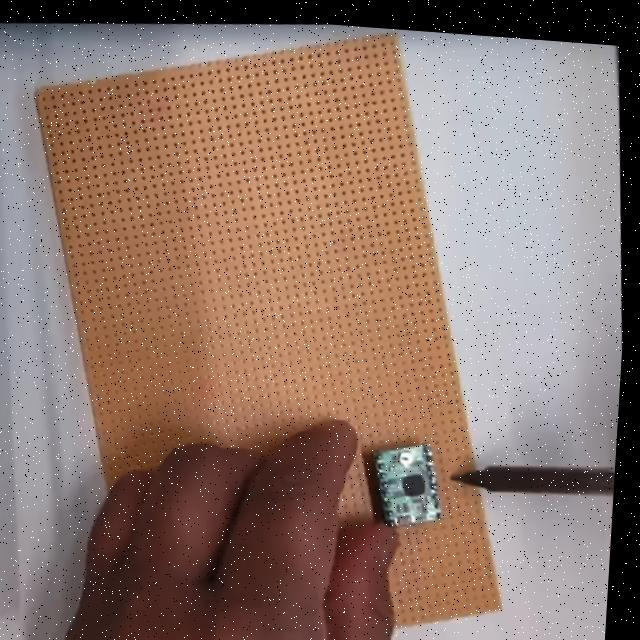Chip: (365, 437, 440, 532)
soldering_iron: (445, 444, 616, 515)
